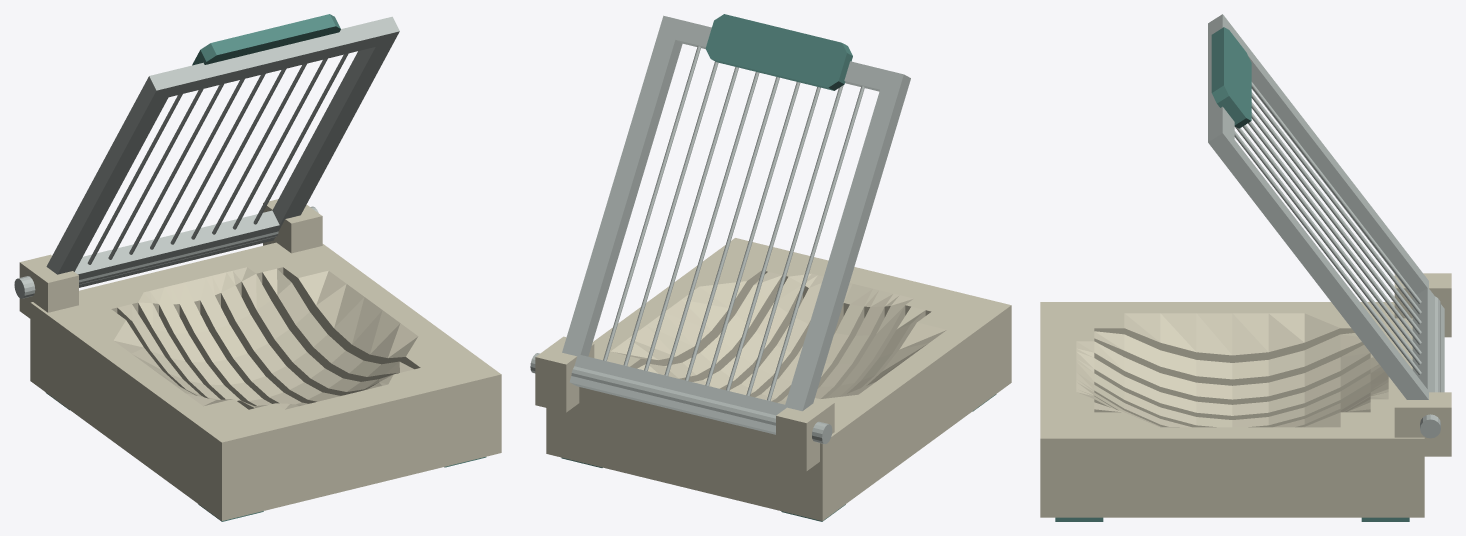
The picture shows the model from 3 angles, left to right: view 1: azimuth 30°, elevation 25°; view 2: azimuth 150°, elevation 25°; view 3: azimuth 270°, elevation 25°; orthographic projection.
Parts seen in each view (by area): view 1: WholeConcaveCradleAndNineThroughSlots, WholeRaisedPerimeterWireFrame, WholeFrontFingerPad, WholeRearHingePedestal-0.047, WholeRearHingePedestal0.047, WholeRearTransverseHingeAxis, WholeFiniteBluntWire8, WholeFiniteBluntWire0, WholeFiniteBluntWire1, WholeFiniteBluntWire4, WholeFiniteBluntWire2, WholeFiniteBluntWire5 (+3 smaller); view 2: WholeConcaveCradleAndNineThroughSlots, WholeRaisedPerimeterWireFrame, WholeFrontFingerPad, WholeRearHingePedestal-0.047, WholeRearTransverseHingeAxis, WholeRearHingePedestal0.047, WholeFiniteBluntWire8, WholeFiniteBluntWire0, WholeFiniteBluntWire1, WholeFiniteBluntWire7, WholeFiniteBluntWire4, WholeFiniteBluntWire5 (+3 smaller); view 3: WholeConcaveCradleAndNineThroughSlots, WholeRaisedPerimeterWireFrame, WholeFrontFingerPad, WholeRearHingePedestal0.047, WholeFiniteBluntWire7, WholeFiniteBluntWire6, WholeFiniteBluntWire5, WholeRearHingePedestal-0.047, WholeFiniteBluntWire4, WholeFiniteBluntWire0, WholeFiniteBluntWire2, WholeFiniteBluntWire3 (+2 smaller).
Part boxes in pixels (left/top/right/bottom): WholeConcaveCradleAndNineThroughSlots: left=30, top=242, right=501, bottom=520; WholeRaisedPerimeterWireFrame: left=46, top=16, right=399, bottom=287; WholeFrontFingerPad: left=192, top=14, right=340, bottom=65; WholeRearHingePedestal-0.047: left=19, top=254, right=78, bottom=318; WholeRearHingePedestal0.047: left=263, top=199, right=322, bottom=253; WholeRearTransverseHingeAxis: left=14, top=206, right=318, bottom=298; WholeFiniteBluntWire8: left=253, top=53, right=348, bottom=224; WholeFiniteBluntWire0: left=87, top=94, right=182, bottom=264; WholeFiniteBluntWire1: left=108, top=89, right=203, bottom=259; WholeFiniteBluntWire4: left=170, top=73, right=265, bottom=244; WholeFiniteBluntWire2: left=129, top=84, right=223, bottom=254; WholeFiniteBluntWire5: left=191, top=68, right=286, bottom=239; WholeConcaveCradleAndNineThroughSlots: left=546, top=238, right=1011, bottom=520; WholeRaisedPerimeterWireFrame: left=562, top=15, right=910, bottom=434; WholeFrontFingerPad: left=705, top=14, right=852, bottom=90; WholeRearHingePedestal-0.047: left=776, top=398, right=834, bottom=471; WholeRearTransverseHingeAxis: left=530, top=353, right=832, bottom=444; WholeRearHingePedestal0.047: left=535, top=336, right=594, bottom=412; WholeFiniteBluntWire8: left=603, top=46, right=701, bottom=360; WholeFiniteBluntWire0: left=767, top=86, right=864, bottom=400; WholeFiniteBluntWire1: left=746, top=85, right=843, bottom=395; WholeFiniteBluntWire7: left=623, top=61, right=718, bottom=365; WholeFiniteBluntWire4: left=685, top=77, right=779, bottom=380; WholeFiniteBluntWire5: left=664, top=72, right=759, bottom=375; WholeConcaveCradleAndNineThroughSlots: left=1040, top=302, right=1424, bottom=517; WholeRaisedPerimeterWireFrame: left=1208, top=14, right=1444, bottom=399; WholeFrontFingerPad: left=1211, top=27, right=1251, bottom=128; WholeRearHingePedestal0.047: left=1394, top=392, right=1451, bottom=456; WholeFiniteBluntWire7: left=1234, top=131, right=1421, bottom=374; WholeFiniteBluntWire6: left=1234, top=126, right=1421, bottom=364; WholeFiniteBluntWire5: left=1243, top=125, right=1421, bottom=354; WholeRearHingePedestal-0.047: left=1394, top=273, right=1451, bottom=337; WholeFiniteBluntWire4: left=1248, top=121, right=1421, bottom=344; WholeFiniteBluntWire0: left=1251, top=82, right=1421, bottom=303; WholeFiniteBluntWire2: left=1251, top=102, right=1421, bottom=324; WholeFiniteBluntWire3: left=1251, top=112, right=1421, bottom=334.
Size of the model in its own units: 0.114 by 0.1475 by 0.137.
